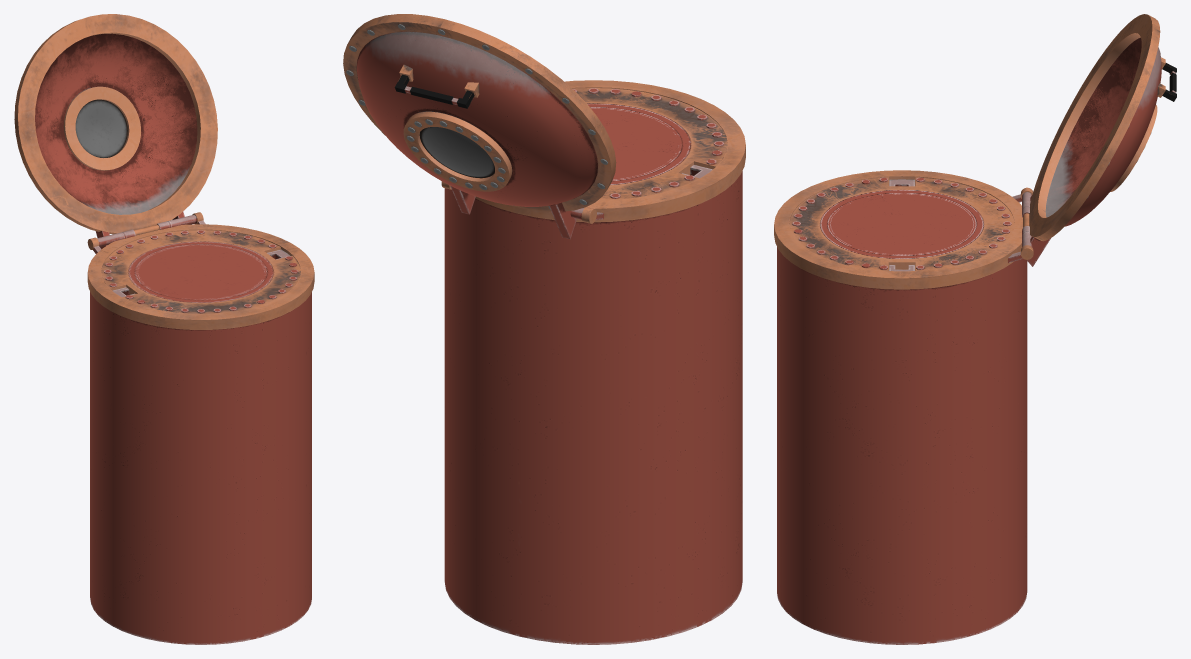
File: Arena_Elevator_Placeholder.fbx
3 renders of one model, left to right at view 1: azimuth 30°, elevation 25°; view 2: azimuth 150°, elevation 25°; view 3: azimuth 270°, elevation 25°, orthographic. The views are drawn at different scales.
Parts seen in each view (by area): view 1: Body_Low; view 2: Body_Low; view 3: Body_Low.
Part boxes in pixels (<box>): Body_Low: <box>14,14,314,644</box>; Body_Low: <box>343,14,745,644</box>; Body_Low: <box>774,14,1176,644</box>.
Size of the model in its own units: 195 by 475 by 307.
